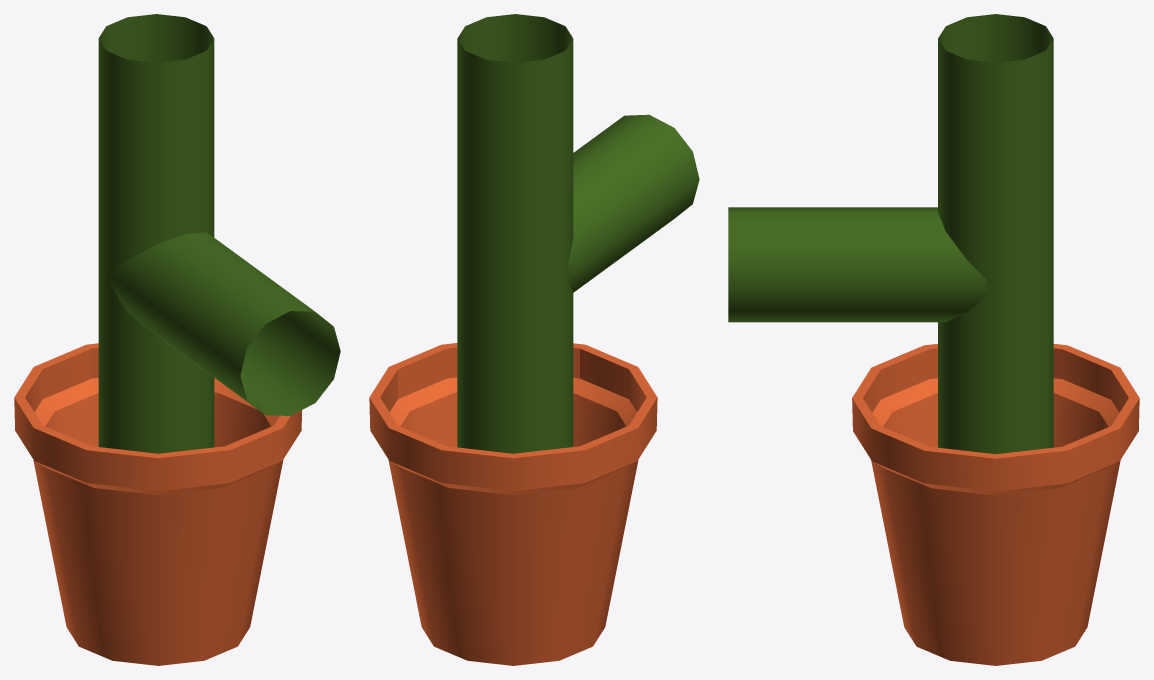
File: Cactus.glb
The picture shows the model from 3 angles, left to right: view 1: azimuth 30°, elevation 25°; view 2: azimuth 150°, elevation 25°; view 3: azimuth 270°, elevation 25°; orthographic projection.
Visible parts, largest first — view 1: Cylinder.081, NurbsPath.038, NurbsPath.037; view 2: Cylinder.081, NurbsPath.038, NurbsPath.037; view 3: Cylinder.081, NurbsPath.038, NurbsPath.037.
Boxes of the visible parts, x1,y1,x2,y2 form: Cylinder.081: [14, 343, 301, 665]; NurbsPath.038: [98, 14, 214, 453]; NurbsPath.037: [110, 232, 340, 415]; Cylinder.081: [369, 343, 657, 665]; NurbsPath.038: [457, 14, 573, 453]; NurbsPath.037: [568, 114, 699, 292]; Cylinder.081: [852, 343, 1139, 665]; NurbsPath.038: [938, 14, 1053, 454]; NurbsPath.037: [728, 207, 986, 322].
Size of the model in its own units: 1.68 by 3.79 by 2.4.
